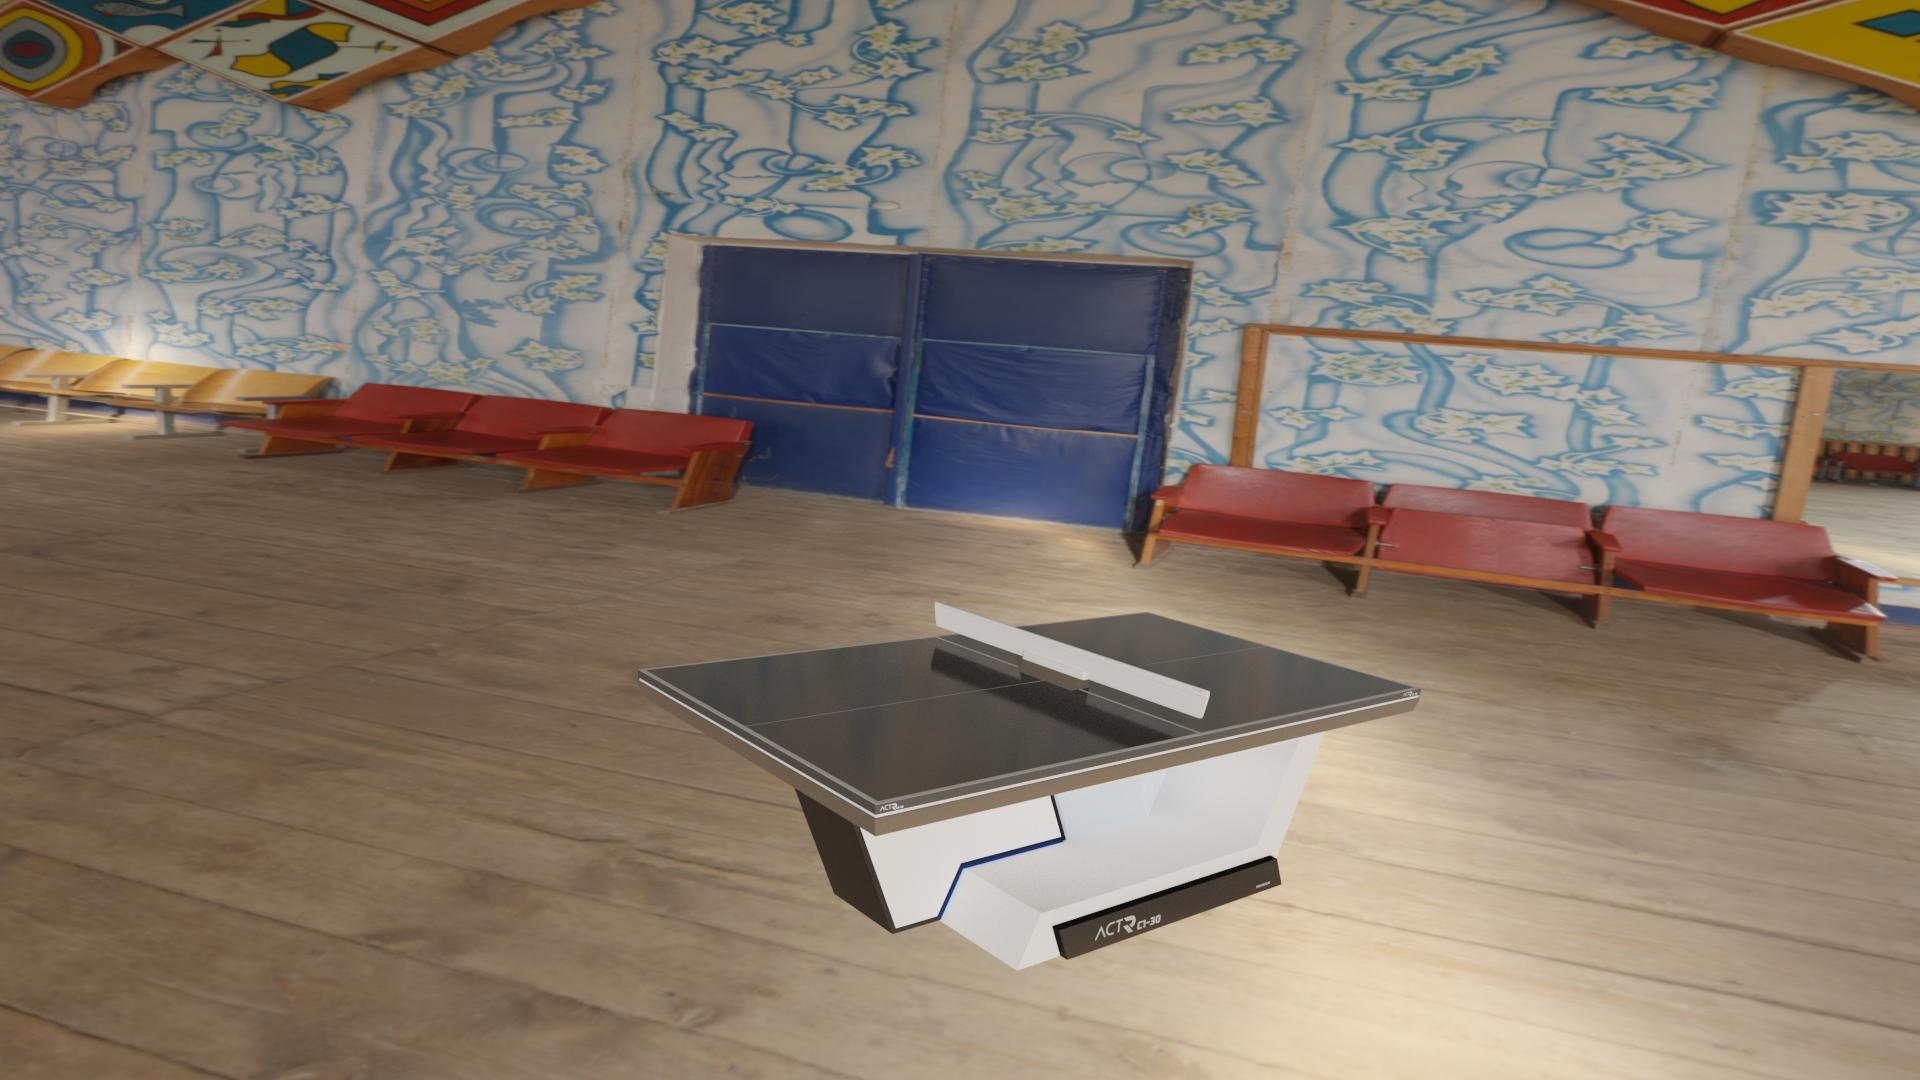table: (645, 613, 1414, 802)
